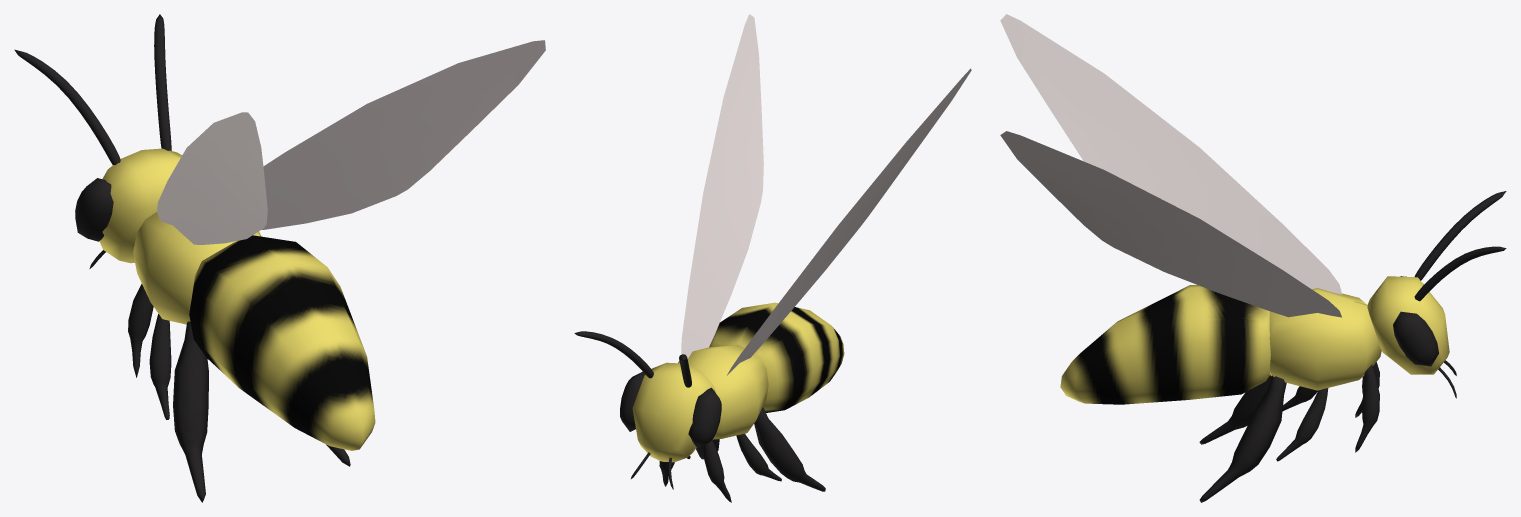
Rendered from Bee.glb.
3 renders of one model, left to right at view 1: azimuth 30°, elevation 25°; view 2: azimuth 150°, elevation 25°; view 3: azimuth 270°, elevation 25°, orthographic. The views are drawn at different scales.
Parts seen in each view (by area): view 1: bee; view 2: bee; view 3: bee.
Boxes of the visible parts, bbox=[...] form: bee: bbox=[14, 14, 545, 502]; bee: bbox=[574, 14, 971, 502]; bee: bbox=[1000, 14, 1506, 502].
Bounding box in the file's own units: 0.3486 × 0.5578 × 0.6379.
Materials: 1 (1 with a texture image).
